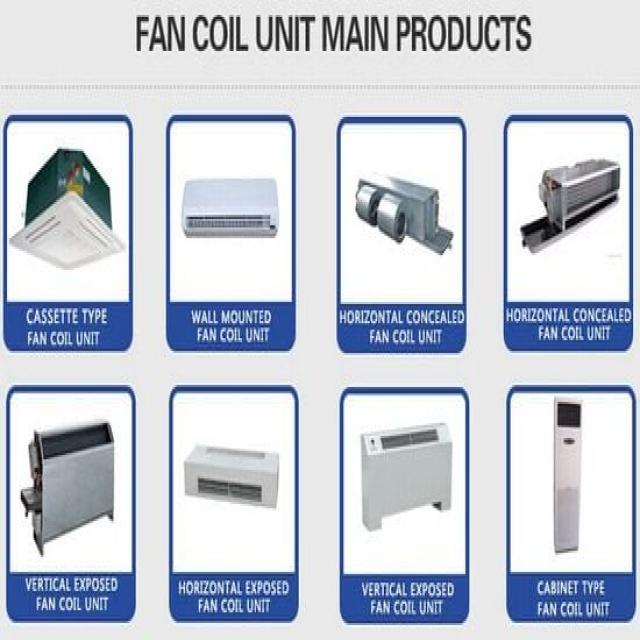appliances: (9, 149, 123, 266), (21, 423, 112, 551), (361, 423, 450, 527), (521, 159, 618, 251), (355, 176, 450, 253), (183, 444, 277, 506), (182, 179, 278, 234), (553, 395, 579, 551)
electronics: (12, 189, 123, 266), (24, 149, 111, 223), (539, 159, 618, 225), (375, 196, 406, 240), (355, 181, 381, 223)
